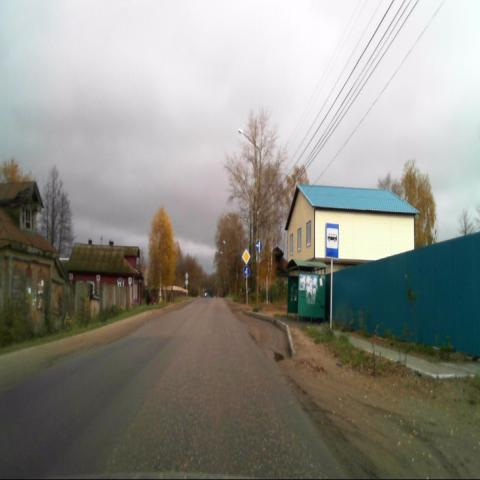2_1: (242, 248, 250, 264)
4_1_5: (255, 240, 263, 253), (243, 265, 251, 277)
5_16: (325, 222, 339, 260)
